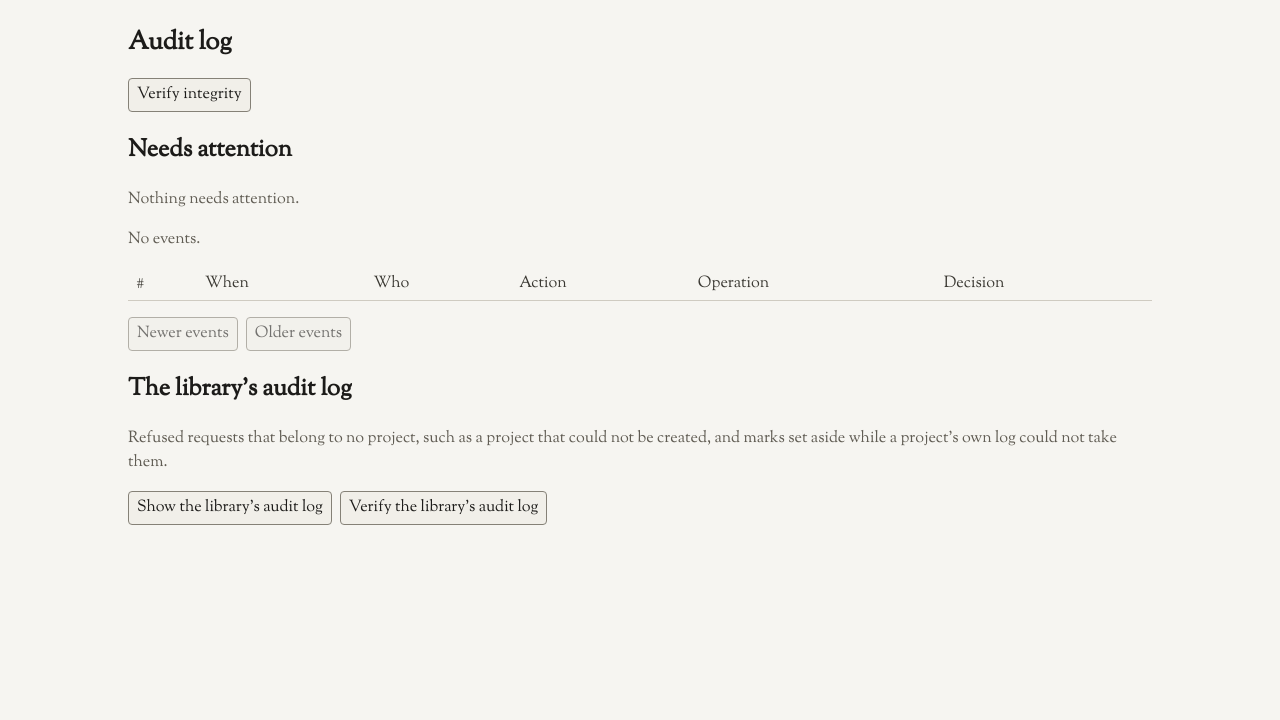
Audit log › Verify integrity shows where the chain breaks
Click the button "Verify integrity". click: (189,95)
box: [128, 78, 251, 112]
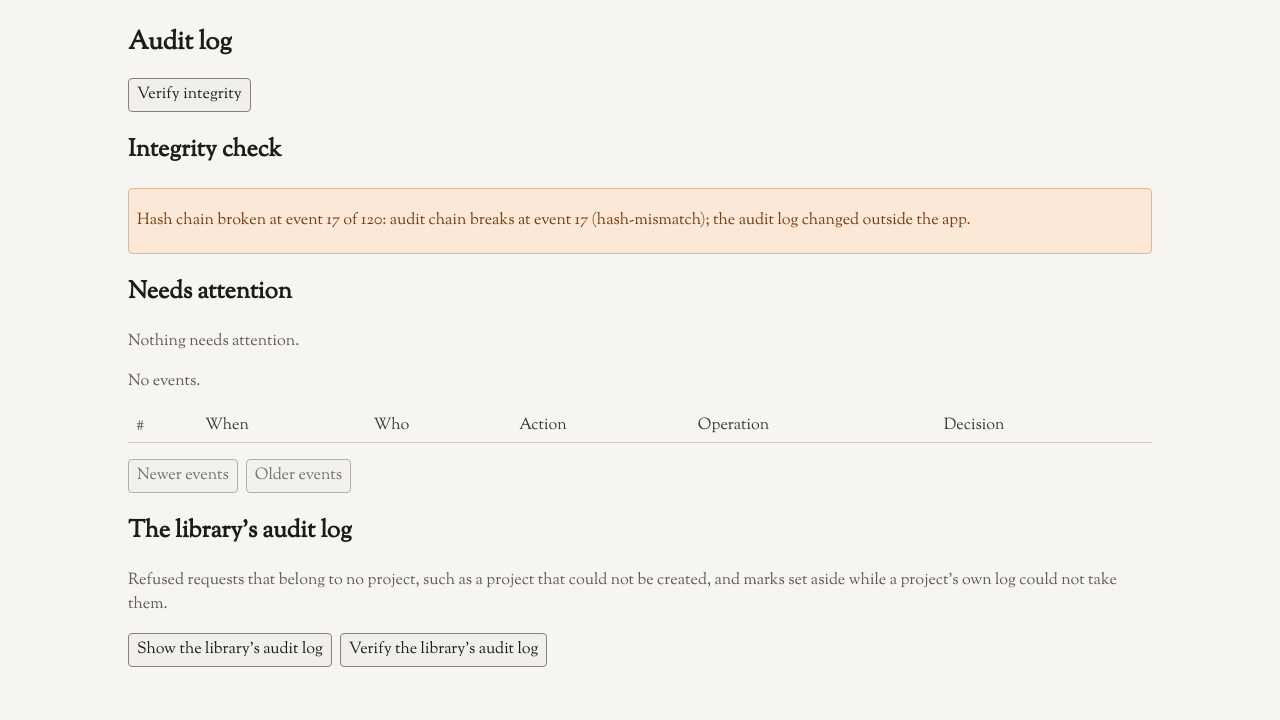
Check: the message shows "Hash chain broken at event 17 of 120", box [137, 209, 970, 232]
Check: the message shows "changed outside the app", box [137, 209, 970, 232]
